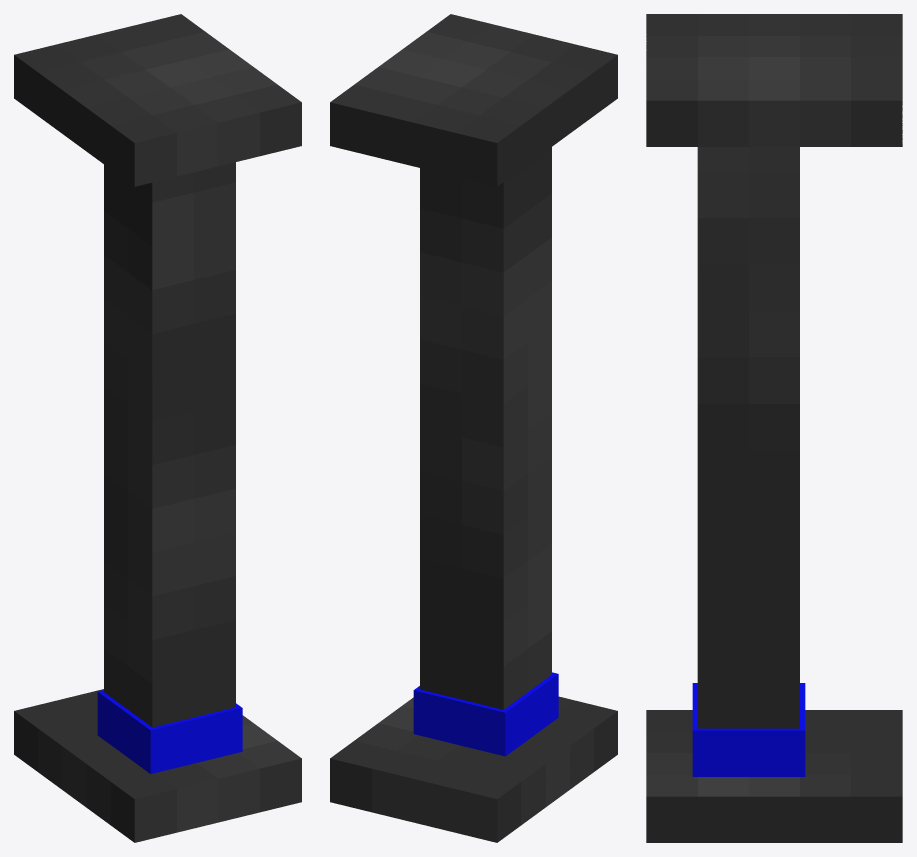
The model's file is steam_sight_glass.gltf.
3 views of the same model, side by side, from view 1: azimuth 30°, elevation 25°; view 2: azimuth 150°, elevation 25°; view 3: azimuth 270°, elevation 25° (orthographic). The views are drawn at different scales.
Parts seen in each view (by area): view 1: sight_glass, water; view 2: sight_glass, water; view 3: sight_glass, water.
Part boxes in pixels (x1=…): sight_glass: x1=14, y1=14, x2=301, y2=842; water: x1=97, y1=690, x2=242, y2=773; sight_glass: x1=330, y1=14, x2=617, y2=842; water: x1=413, y1=672, x2=558, y2=756; sight_glass: x1=646, y1=14, x2=902, y2=842; water: x1=692, y1=683, x2=805, y2=776.
Size of the model in its own units: 2.5 by 10 by 3.12.
Materials: 2 (2 with a texture image).
